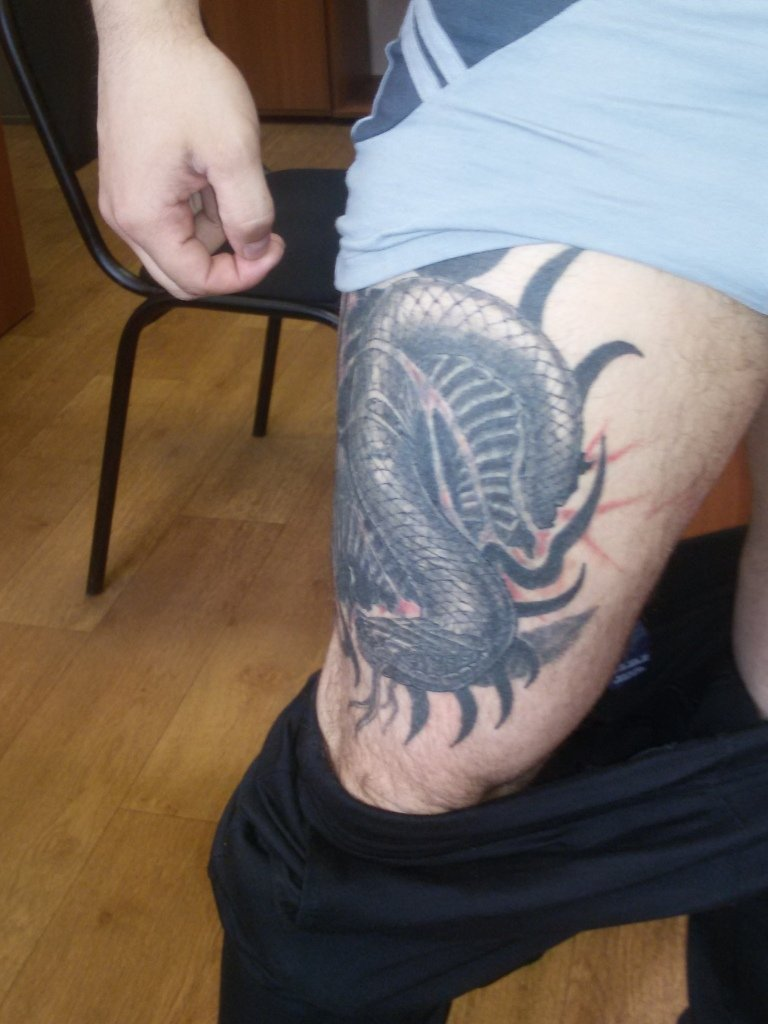tatu7_zmeya: (222, 290, 625, 693)
